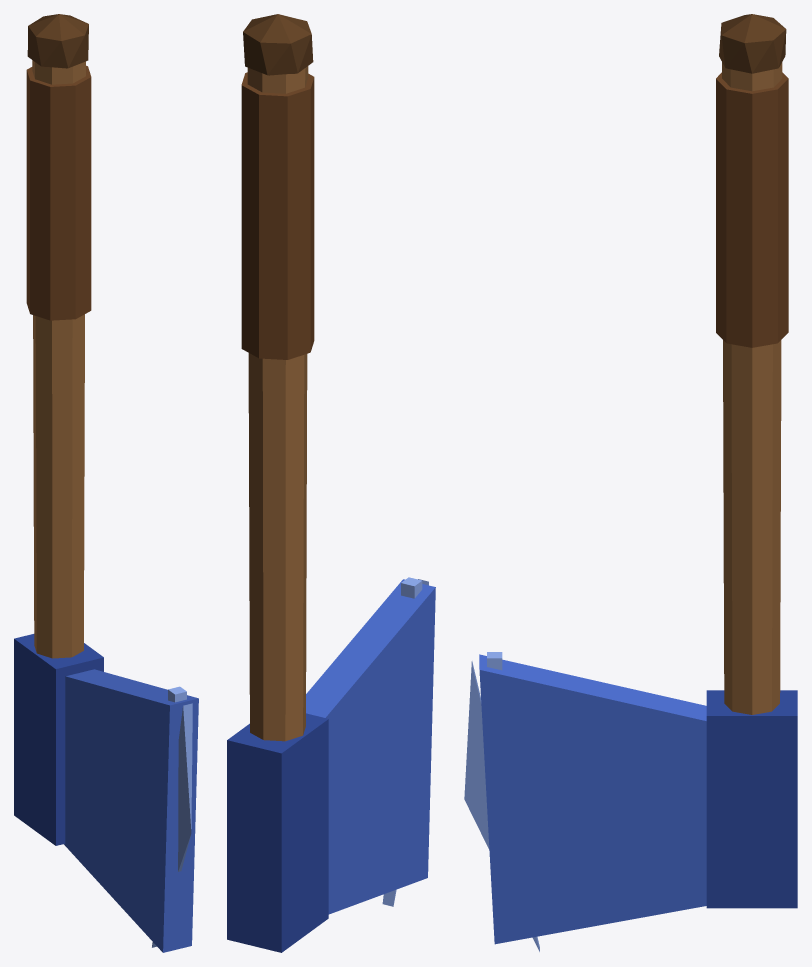
Rendered from held_mithril_hatchet.glb.
The picture shows the model from 3 angles, left to right: view 1: azimuth 30°, elevation 25°; view 2: azimuth 150°, elevation 25°; view 3: azimuth 270°, elevation 25°; orthographic projection. The views are drawn at different scales.
Parts seen in each view (by area): view 1: held_mithril_hatchet; view 2: held_mithril_hatchet; view 3: held_mithril_hatchet.
Boxes of the visible parts, <box> form: held_mithril_hatchet: <box>14,14,198,952</box>; held_mithril_hatchet: <box>227,14,435,952</box>; held_mithril_hatchet: <box>464,14,797,951</box>.
Size of the model in its own units: 0.048 by 0.682 by 0.22.
